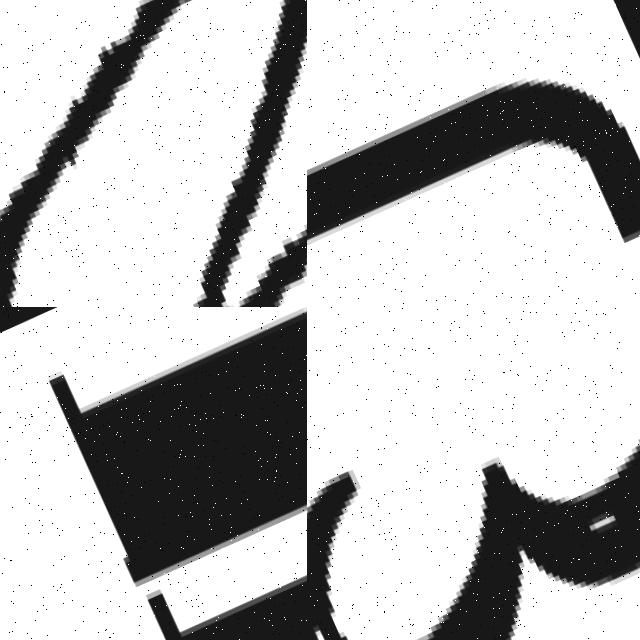3: (307, 307, 640, 640)
A: (0, 0, 307, 307)
L: (307, 0, 640, 307)
U: (43, 307, 307, 640)
